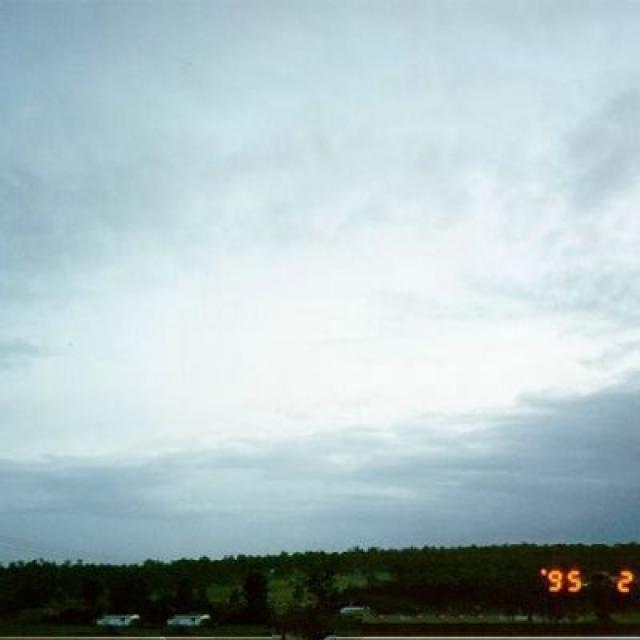Sc: (1, 16, 640, 488)
